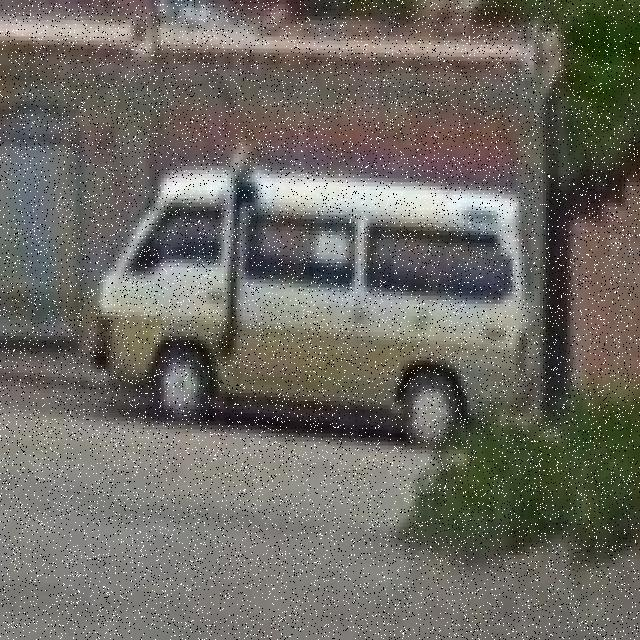cars: (97, 158, 531, 436)
